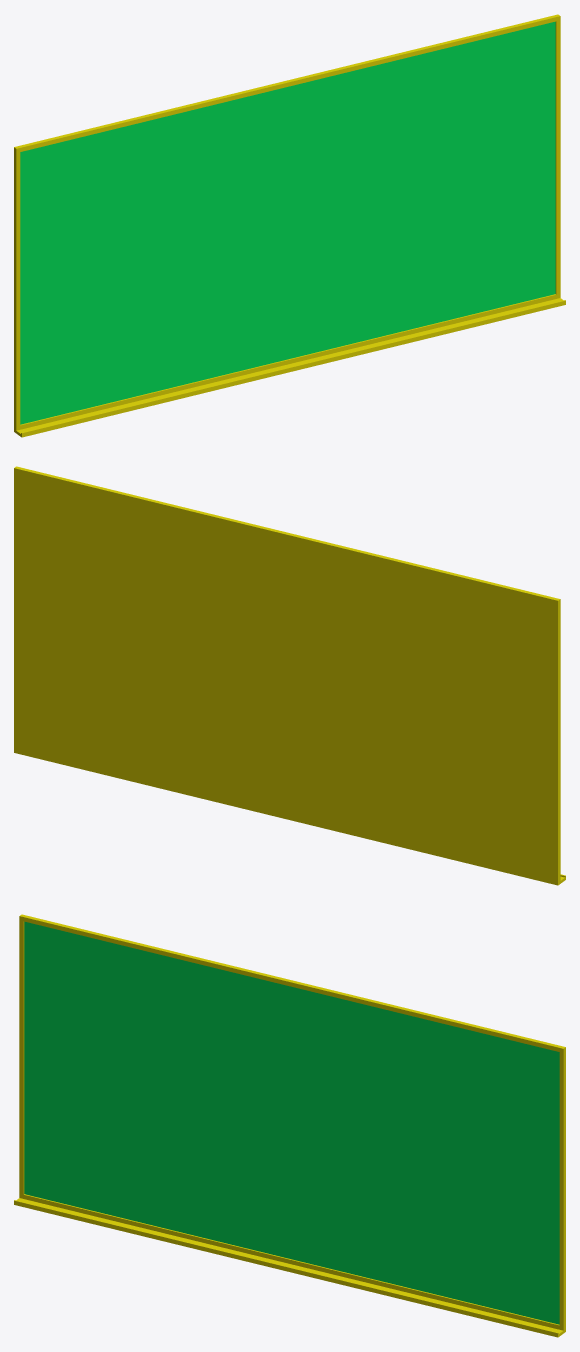
Rendered from Liitutaulu.fbx.
3 renders of one model, top to bottom at view 1: azimuth 30°, elevation 25°; view 2: azimuth 150°, elevation 25°; view 3: azimuth 330°, elevation 25°, orthographic.
Parts seen in each view (by area): view 1: Liitutaulu; view 2: Liitutaulu; view 3: Liitutaulu.
Boxes of the visible parts, <box> form: Liitutaulu: <box>14,14,565,437</box>; Liitutaulu: <box>14,466,565,885</box>; Liitutaulu: <box>14,914,565,1337</box>.
Bounding box in the file's own units: 200 × 100 × 5.
